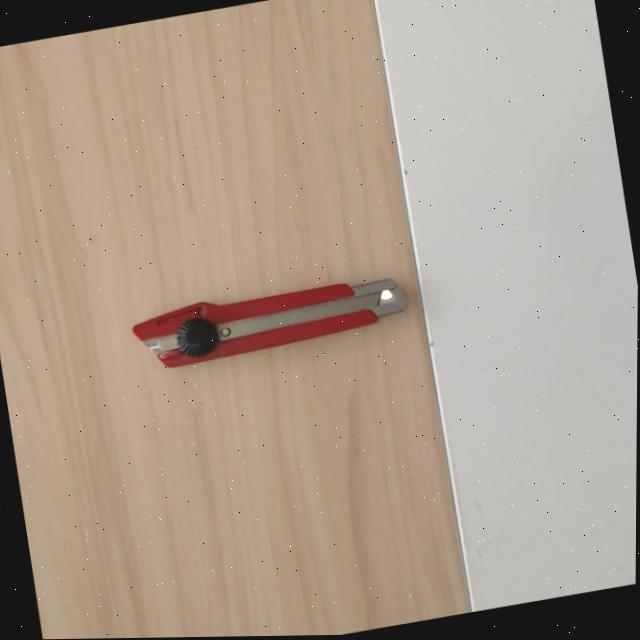Cutter-Besar: (128, 263, 410, 376)
